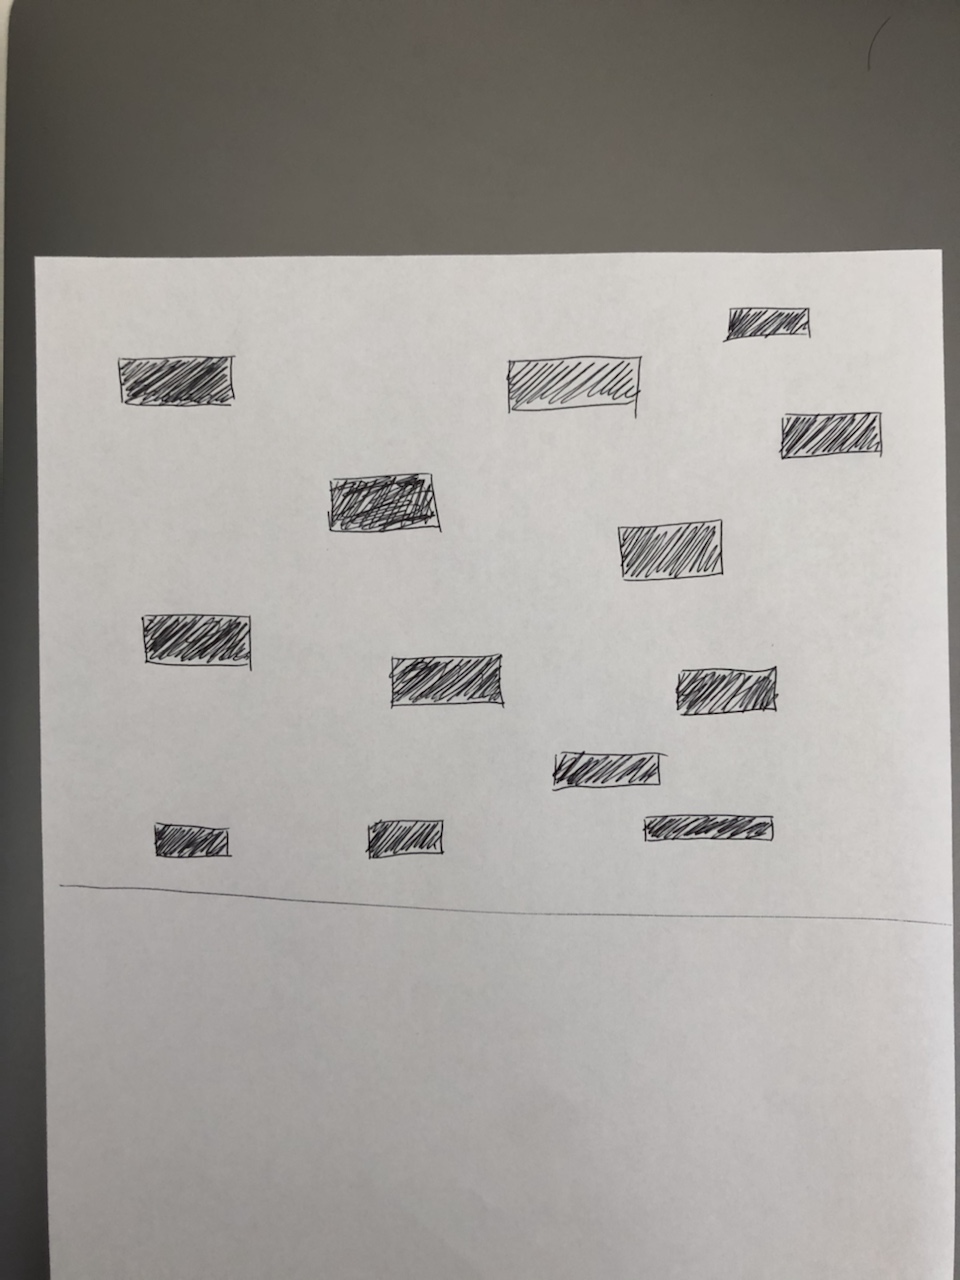button: (498, 352, 652, 417), (384, 648, 518, 722), (320, 468, 453, 541), (128, 603, 258, 676), (607, 511, 730, 588), (112, 350, 245, 414), (670, 655, 785, 724), (772, 404, 893, 469), (641, 804, 783, 855), (550, 741, 668, 795), (145, 812, 241, 872), (723, 300, 823, 349), (359, 813, 447, 865)
